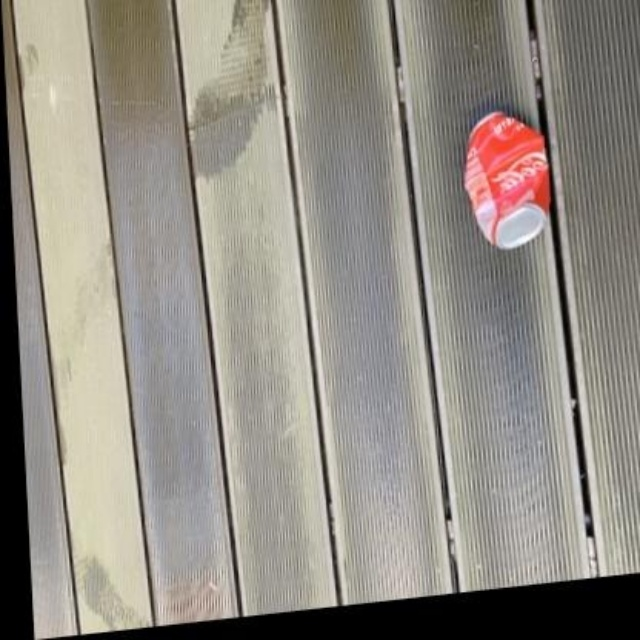trash: (465, 112, 548, 248)
